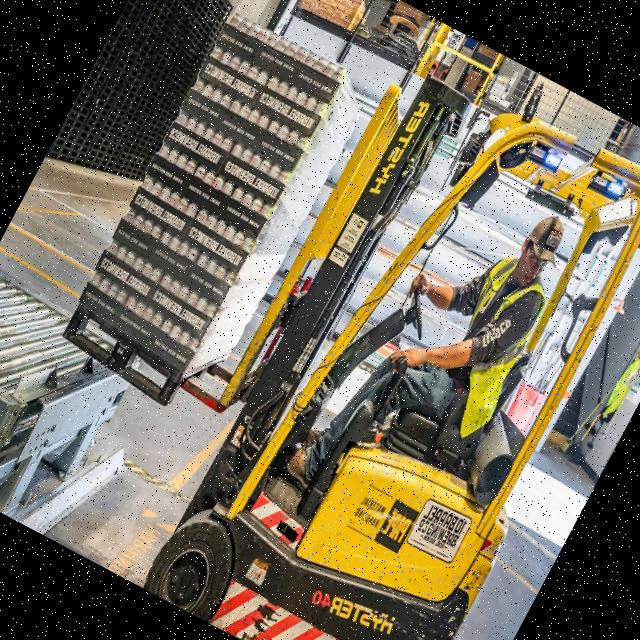Person: (274, 155, 582, 546)
